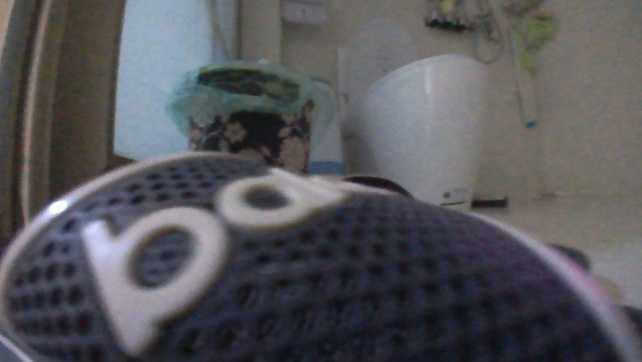toilet: (335, 11, 495, 215)
